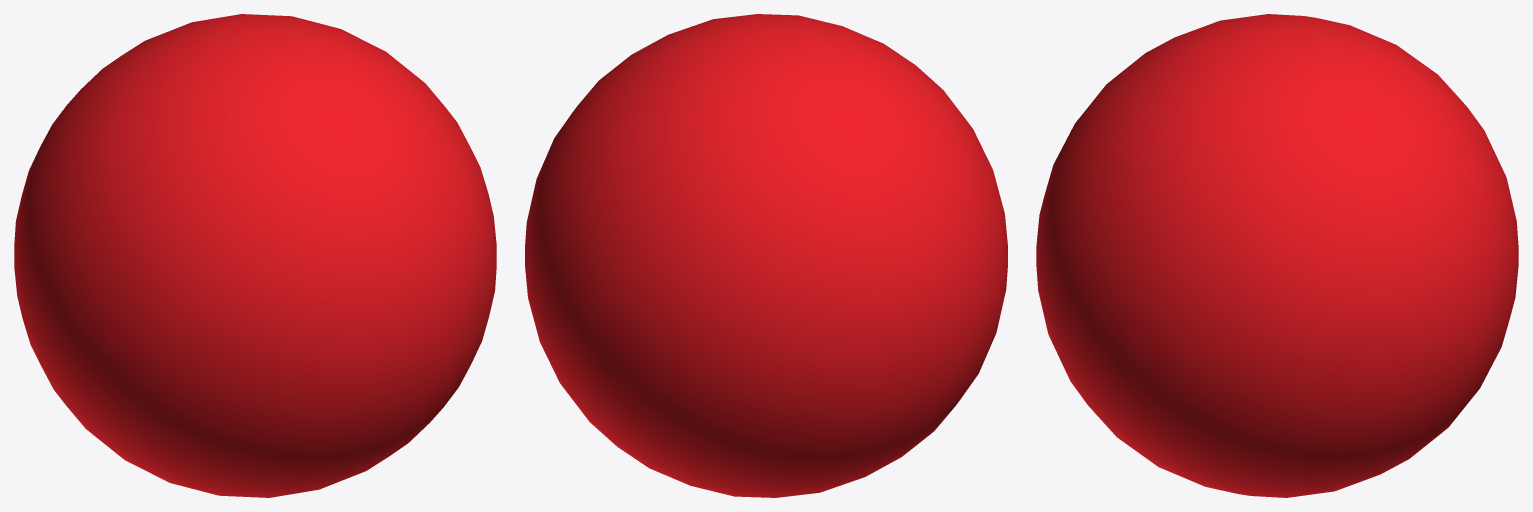
The model's file is bullet.obj.
3 views of the same model, side by side, from view 1: azimuth 30°, elevation 25°; view 2: azimuth 150°, elevation 25°; view 3: azimuth 270°, elevation 25° (orthographic).
Size of the model in its own units: 2 by 2 by 1.99.
Materials: 1 (1 with a texture image).
